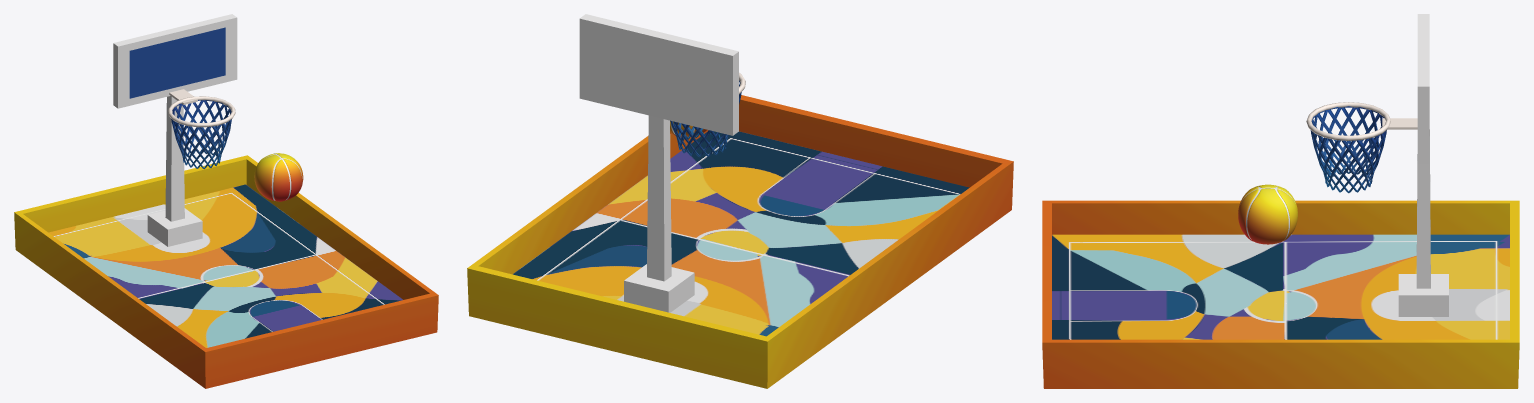
The model's file is Saha_Pota_Top_3.fbx.
The picture shows the model from 3 angles, left to right: view 1: azimuth 30°, elevation 25°; view 2: azimuth 150°, elevation 25°; view 3: azimuth 270°, elevation 25°; orthographic projection. The views are drawn at different scales.
Parts seen in each view (by area): view 1: Cube.016, Cube.018, pota, file, top.004; view 2: Cube.016, Cube.018, pota, file; view 3: Cube.016, Cube.018, pota, file, top.004.
Part boxes in pixels (x1,y1,x2,y2): Cube.016: (48,184,402,347); Cube.018: (14,155,438,388); pota: (113,14,237,246); file: (168,89,235,169); top.004: (254,153,303,201); Cube.016: (513,131,969,336); Cube.018: (467,95,1013,388); pota: (579,14,738,312); file: (670,72,745,157); Cube.016: (1052,234,1509,339); Cube.018: (1042,200,1519,388); pota: (1398,14,1448,316); file: (1306,102,1417,193); top.004: (1238,184,1297,244).
Bounding box in the file's own units: 11853 × 10558 × 16820.
2 materials, 2 textured.
